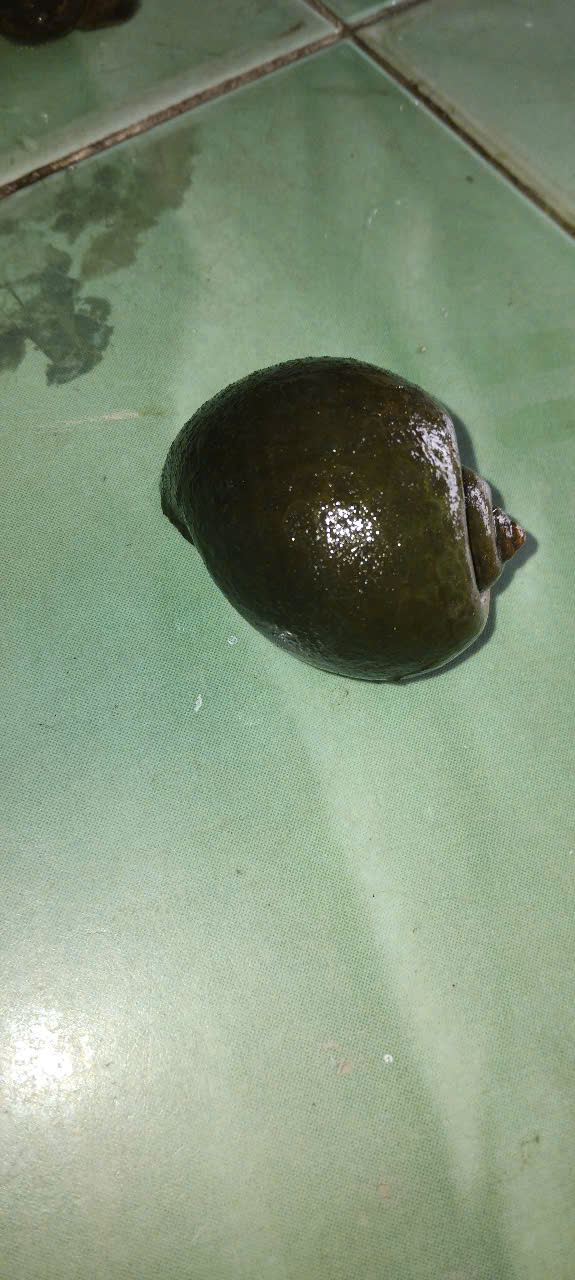oc_buou_den: (153, 306, 540, 749)
